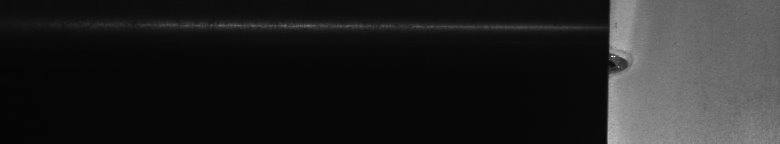hb: (620, 45, 638, 78)
